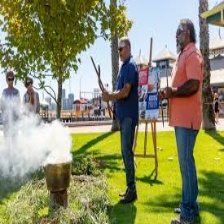smoke: (1, 111, 70, 168)
